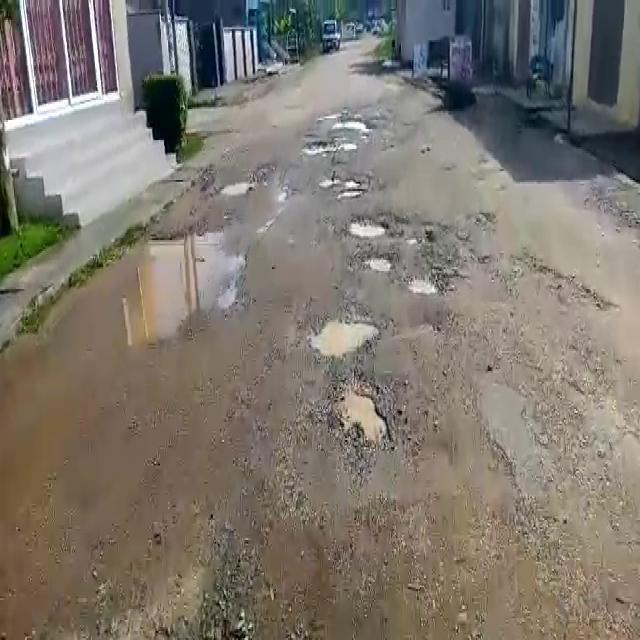pothole: (52, 242, 245, 350), (325, 374, 399, 455), (305, 310, 383, 358), (341, 216, 391, 241), (301, 137, 360, 155), (217, 176, 255, 198), (329, 179, 373, 198), (361, 251, 398, 272), (406, 274, 439, 297)
